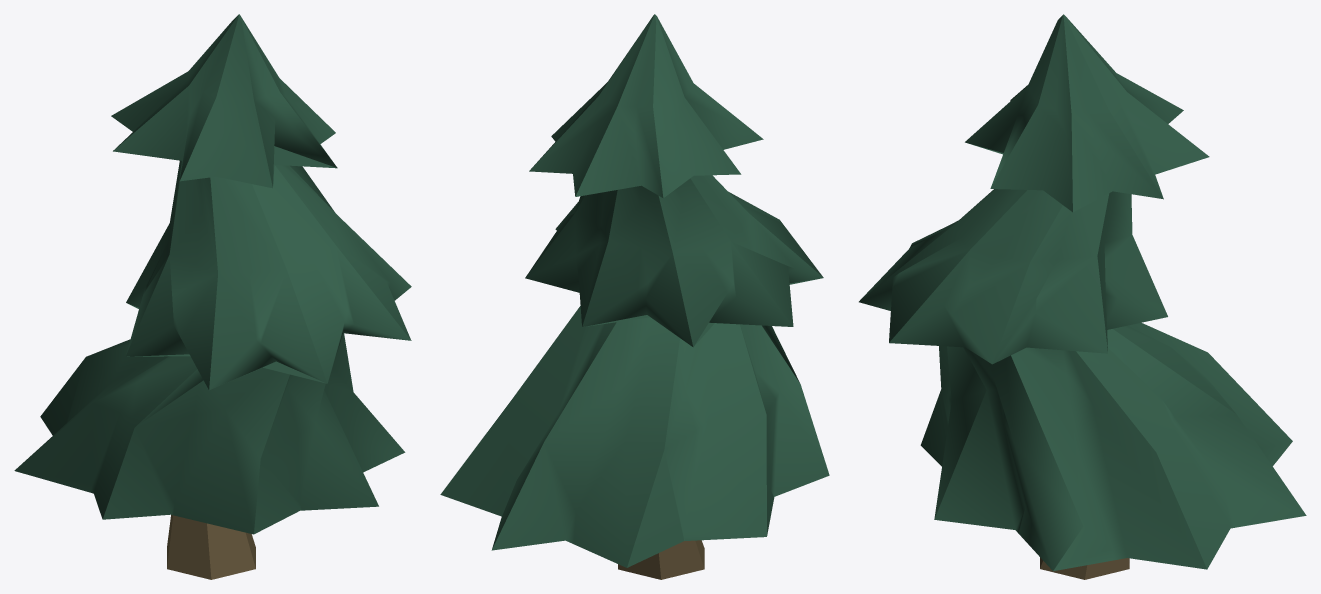
The model's file is Tree3.fbx.
The picture shows the model from 3 angles, left to right: view 1: azimuth 30°, elevation 25°; view 2: azimuth 150°, elevation 25°; view 3: azimuth 270°, elevation 25°; orthographic projection. The views are drawn at different scales.
Visible parts, largest first — view 1: Tree3, Trunk3; view 2: Tree3, Trunk3; view 3: Tree3, Trunk3.
Part boxes in pixels (box(x1,y1,x2,y2)): Tree3: box(14, 14, 411, 534); Trunk3: box(167, 515, 255, 579); Tree3: box(440, 14, 829, 567); Trunk3: box(618, 540, 704, 579); Tree3: box(859, 14, 1306, 571); Trunk3: box(1040, 557, 1129, 579).
Size of the model in its own units: 3.16 by 4.99 by 3.67.
